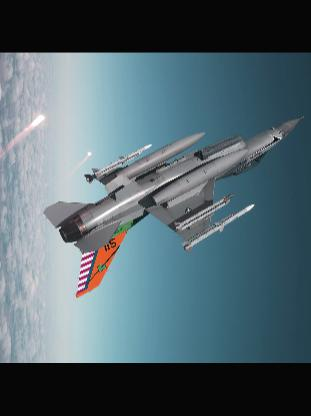F14: (40, 115, 307, 298)
